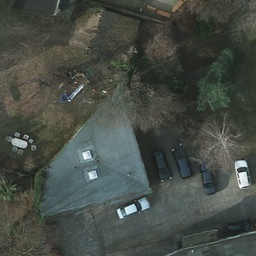car: (116, 197, 150, 215), (199, 161, 216, 195), (172, 144, 189, 178), (153, 148, 171, 180), (234, 160, 251, 189)
